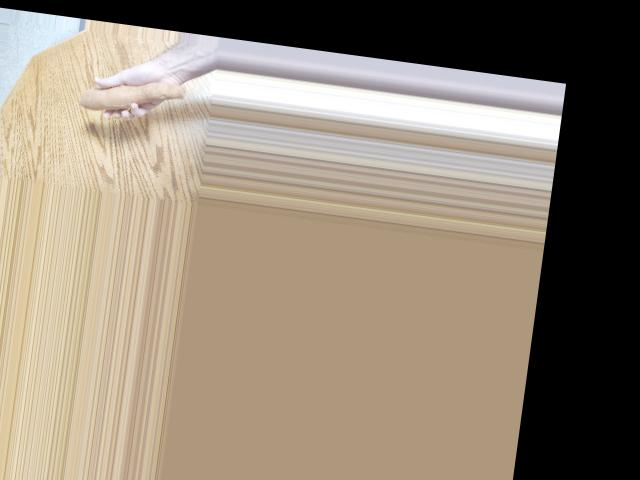sweet_potato: (76, 70, 184, 122)
